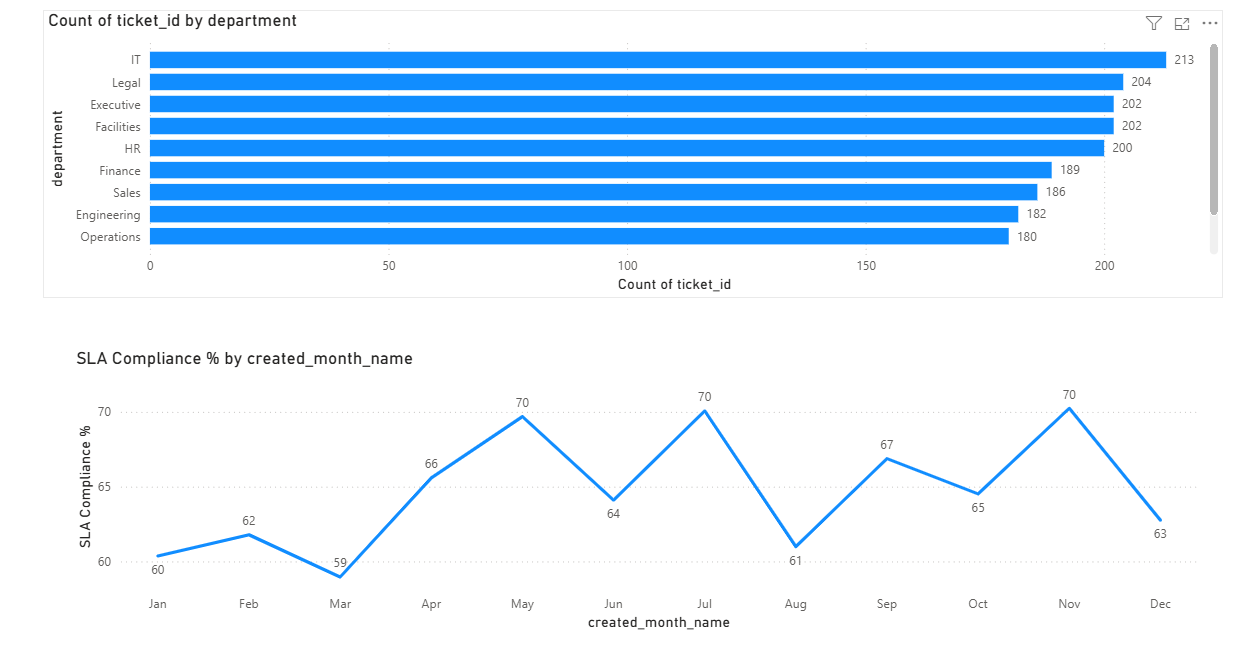

This screenshot's page, from the dashboard's own definition file:
{"tool":"powerbi","page":{"name":"Department & SLA","canvas":[1280,720],"ordinal":2},"visuals":[{"type":"clusteredBarChart","fields":{"Category":["tickets_processed.department"],"Y":["CountNonNull(tickets_processed.ticket_id)"]},"box":[86.3,61.3,1147.9,279.7],"z":0},{"type":"lineChart","fields":{"Category":["tickets_processed.created_month_name"],"Y":["tickets_processed.SLA Compliance %"]},"box":[113.3,389.9,1100.1,279.7],"z":1}]}

Visuals, with their boxes on the page's 1280x720 design canvas (x1, y1, x2, y2). These are canvas units, not pixel positions in the 1237x665 screenshot, which may show the page scaled, cropped or inside an application window:
clusteredBarChart - tickets_processed.department x CountNonNull(tickets_processed.ticket_id): select_region(86, 61, 1234, 341)
lineChart - tickets_processed.created_month_name x tickets_processed.SLA Compliance %: select_region(113, 390, 1213, 670)
